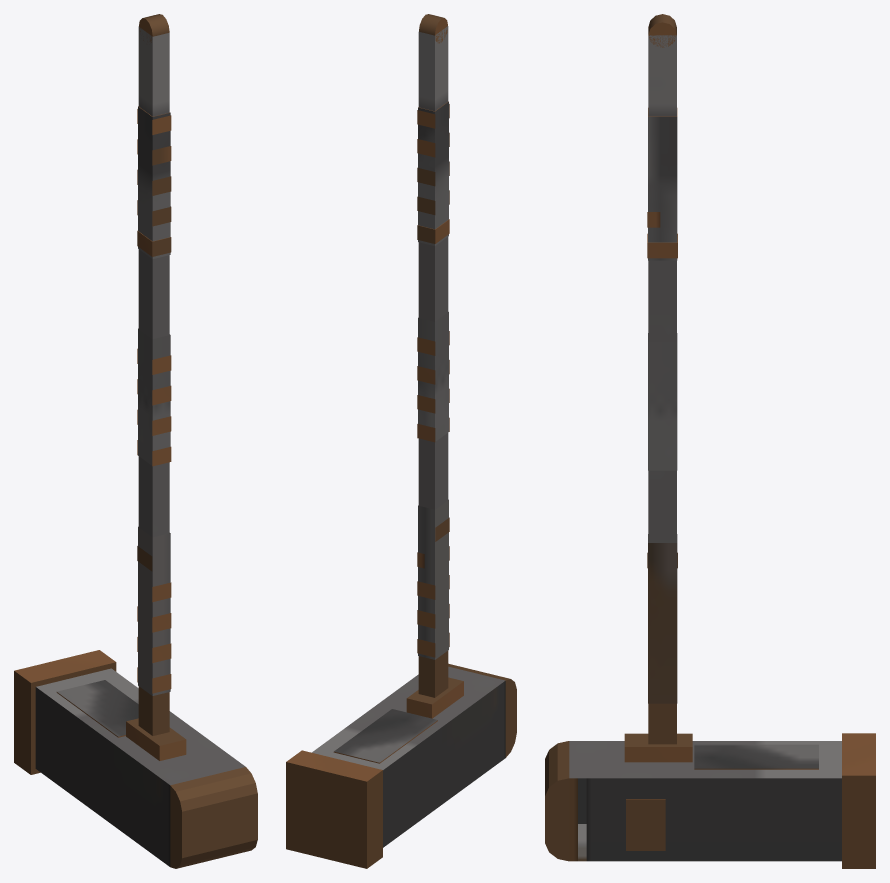
3 renders of one model, left to right at view 1: azimuth 30°, elevation 25°; view 2: azimuth 150°, elevation 25°; view 3: azimuth 270°, elevation 25°, orthographic. The views are drawn at different scales.
Size of the model in its own units: 0.352 by 3.21 by 1.16.
